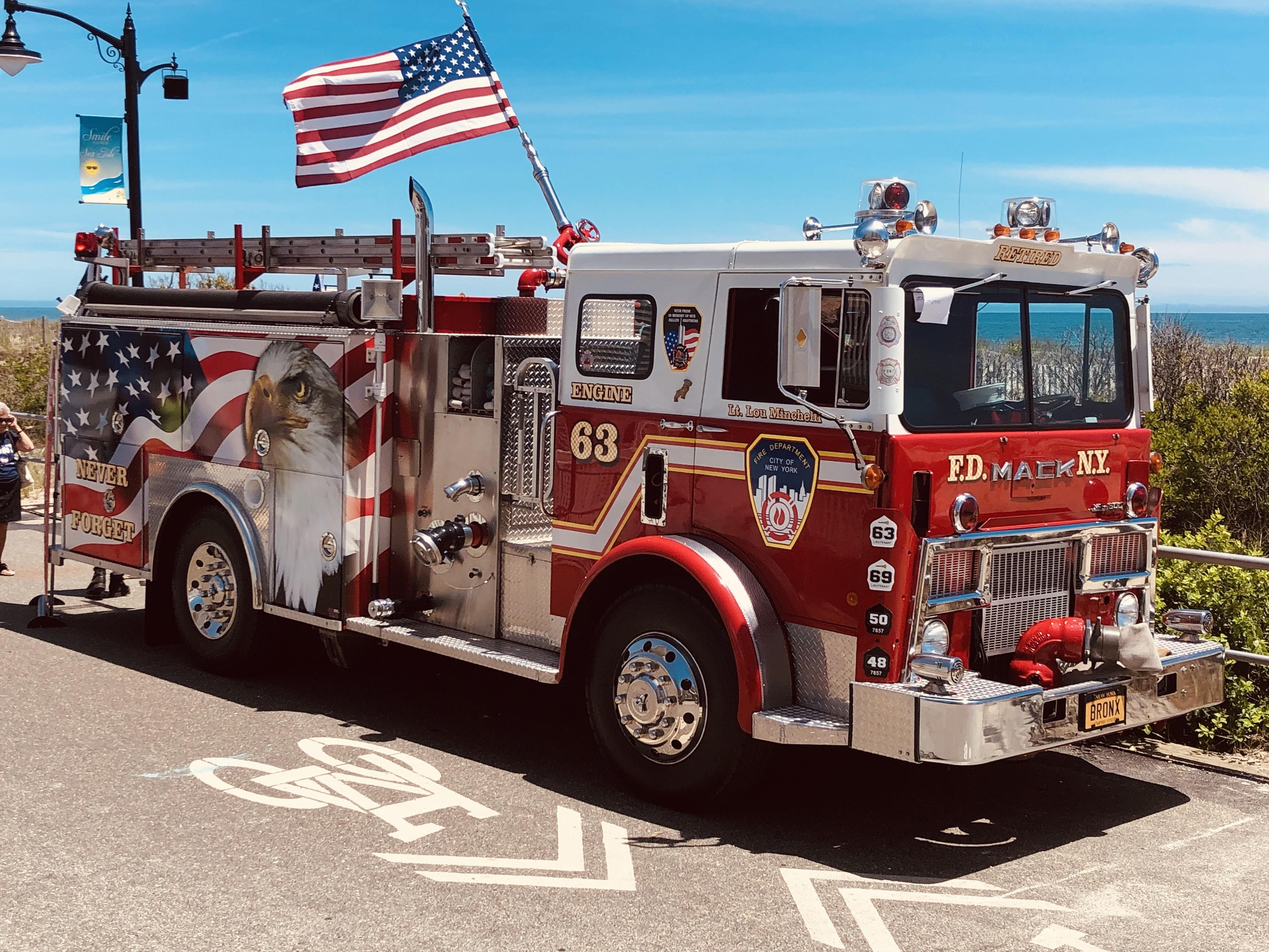Fire-engine: (38, 171, 1230, 809)
